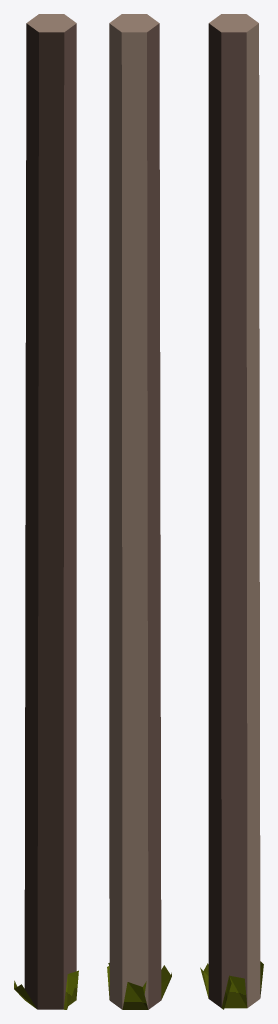
File: post_713x00.gltf
3 renders of one model, left to right at view 1: azimuth 30°, elevation 25°; view 2: azimuth 210°, elevation 25°; view 3: azimuth 330°, elevation 25°, orthographic.
Visible parts, largest first — view 1: Cylinder; view 2: Cylinder; view 3: Cylinder.
Part boxes in pixels (x1,y1,x2,y2): Cylinder: (14, 14, 78, 1009); Cylinder: (107, 14, 171, 1009); Cylinder: (200, 14, 263, 1009).
Size of the model in its own units: 0.5706 by 10.01 by 0.5873.
1 material, 1 textured.
